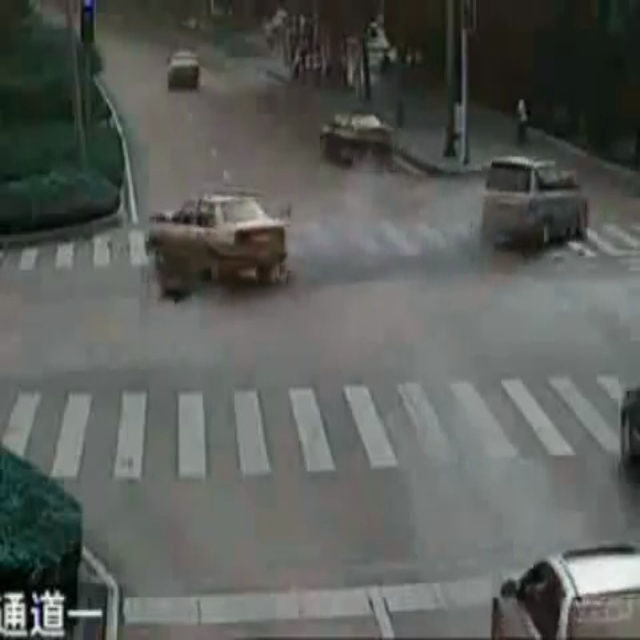acc: (145, 179, 528, 290)
